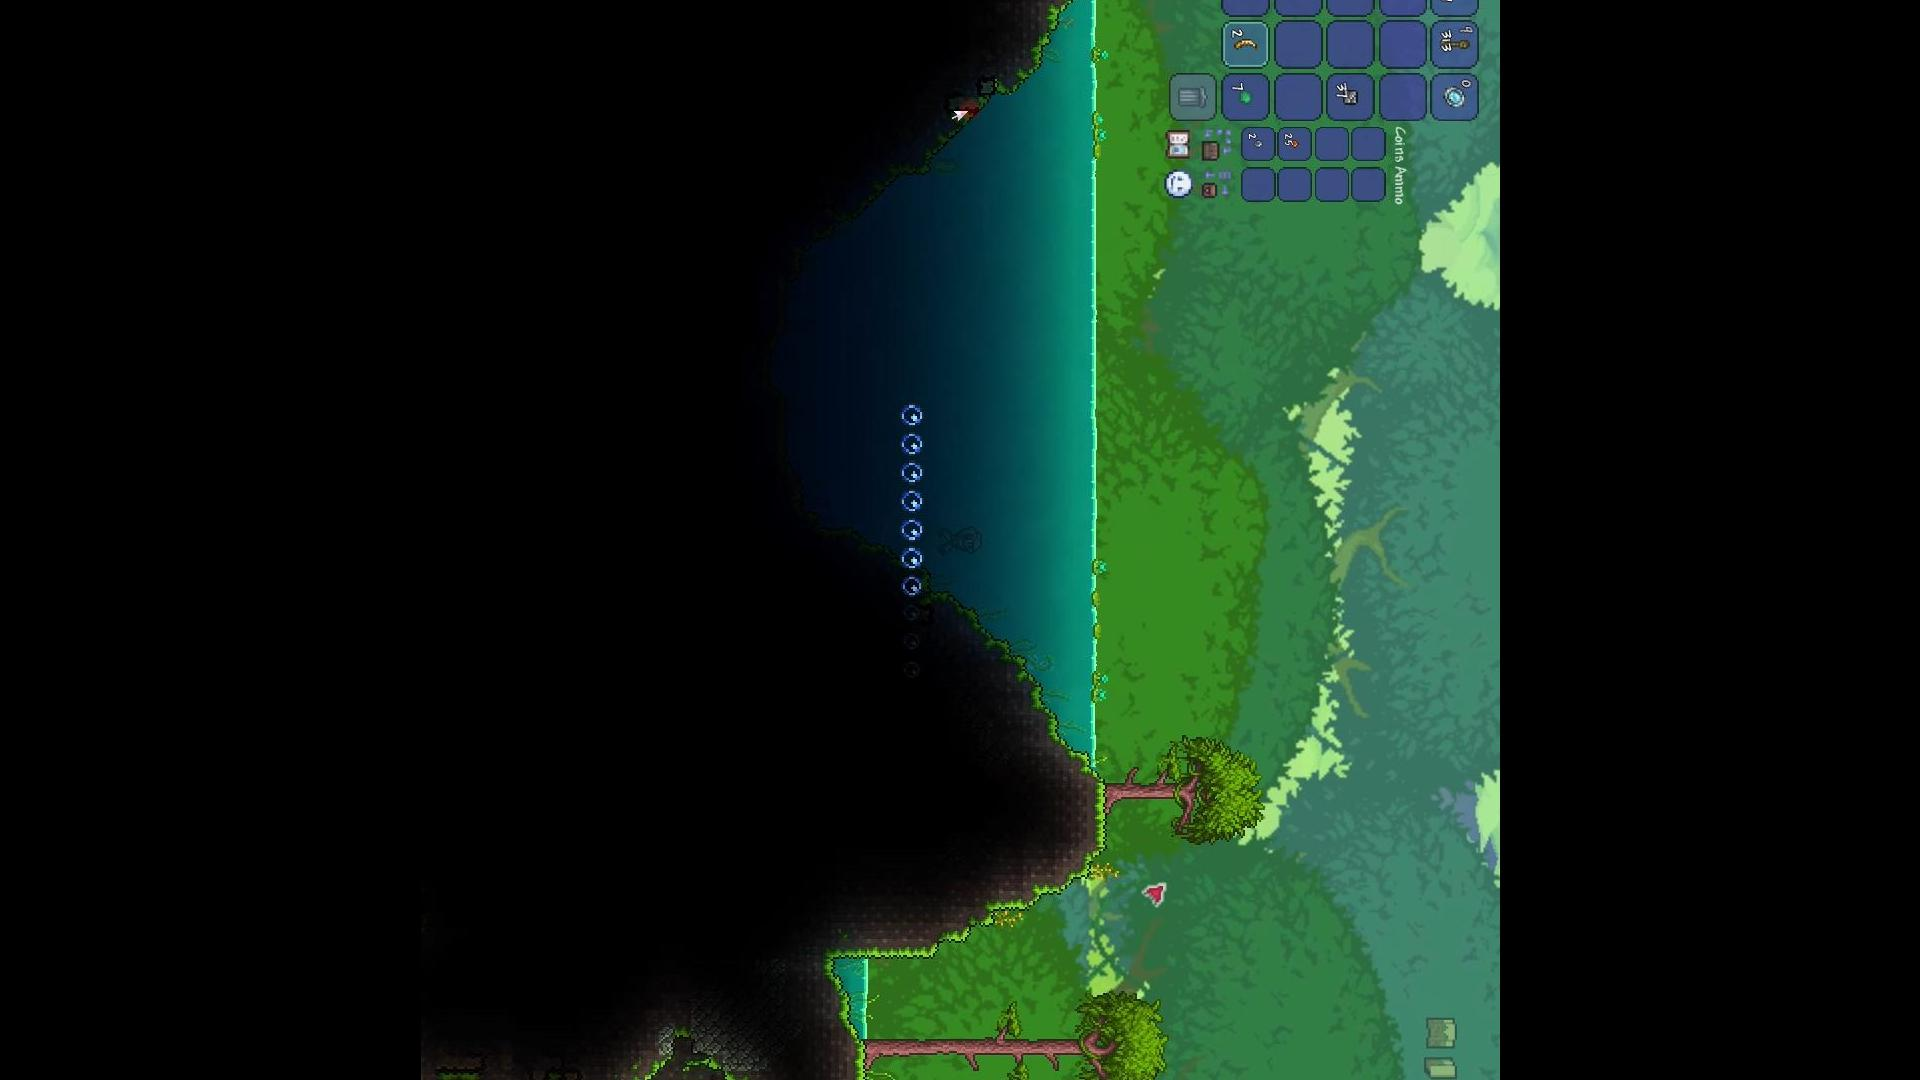dirt: (847, 775, 1106, 968)
